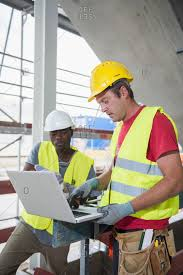helmet: (85, 56, 134, 102), (42, 106, 76, 133)
vest: (105, 111, 180, 225), (28, 150, 92, 242)
